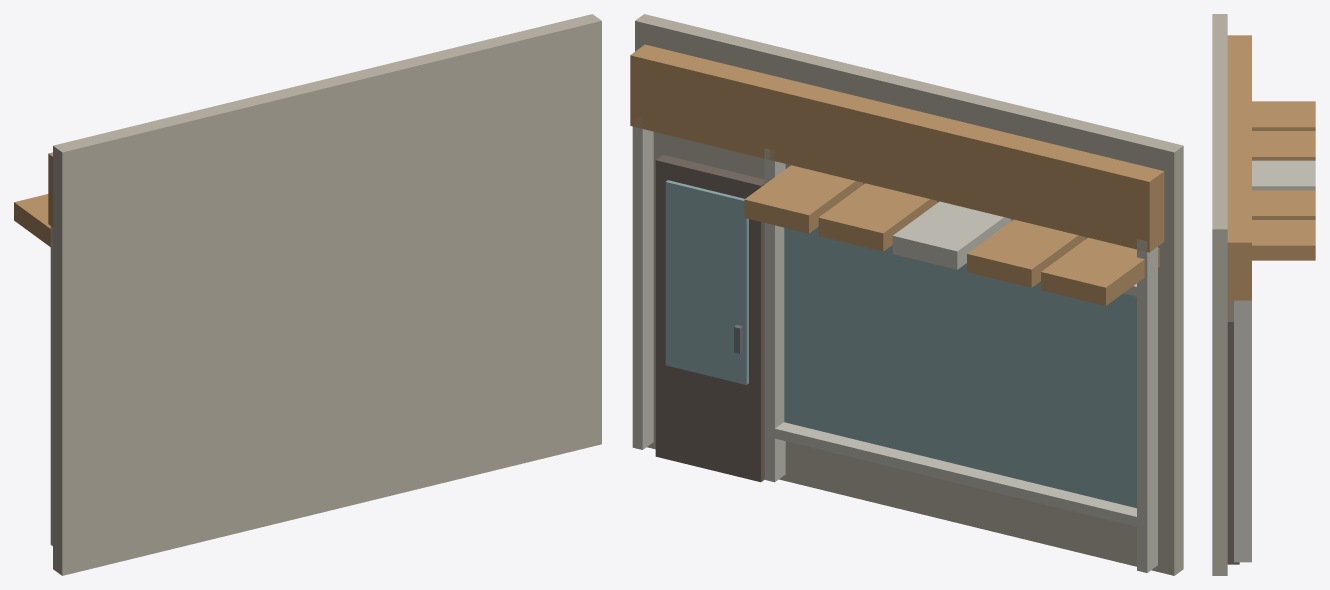
The model's file is facade_bakery.glb.
The picture shows the model from 3 angles, left to right: view 1: azimuth 30°, elevation 25°; view 2: azimuth 150°, elevation 25°; view 3: azimuth 270°, elevation 25°; orthographic projection. The views are drawn at different scales.
Parts seen in each view (by area): view 1: body; view 2: body; view 3: body.
Part boxes in pixels (left/top/right/bottom): body: left=14, top=14, right=601, bottom=575; body: left=630, top=14, right=1183, bottom=575; body: left=1212, top=14, right=1315, bottom=575.
Size of the model in its own units: 4 by 3 by 0.81.
